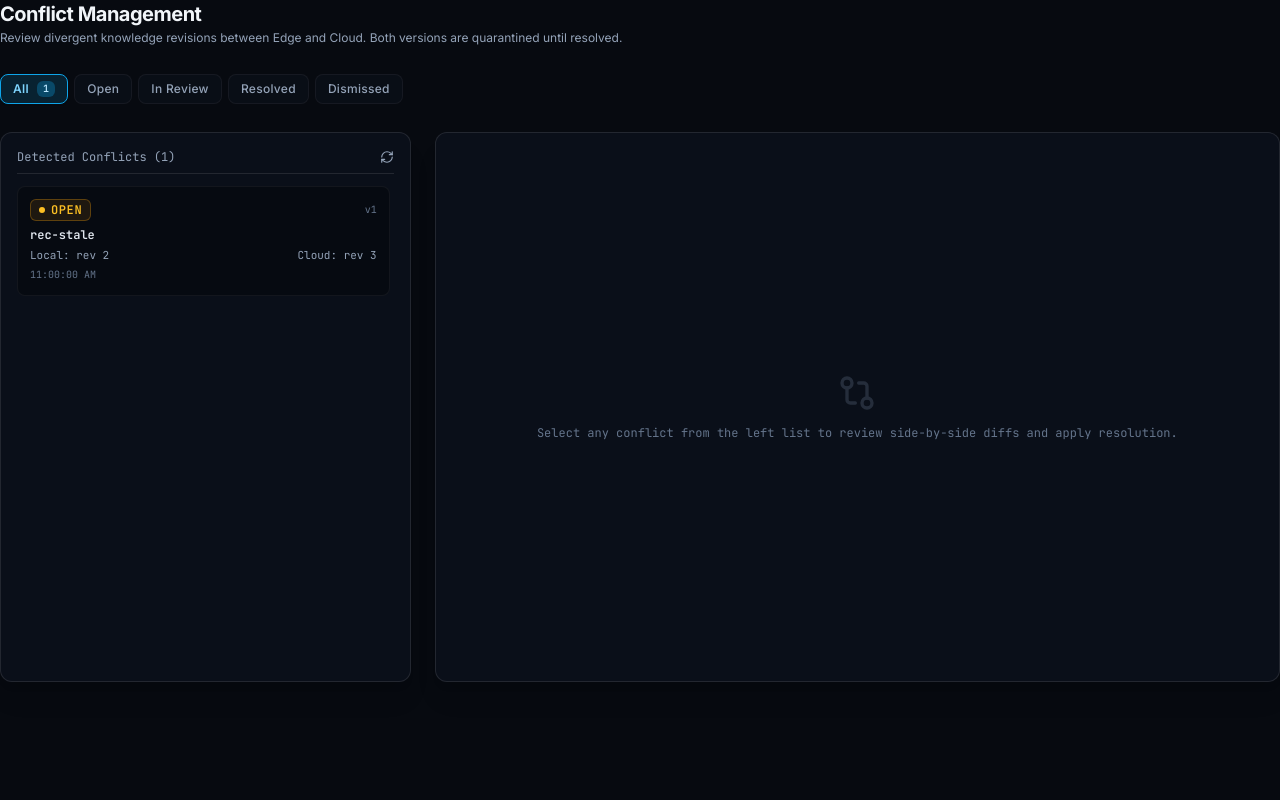
Test: End-to-End Operational Flows Suite › notifies operator when conflict was updated concurrently (HTTP 409)
Click the text "rec-stale".
click(62, 235)  # box [30, 227, 95, 243]
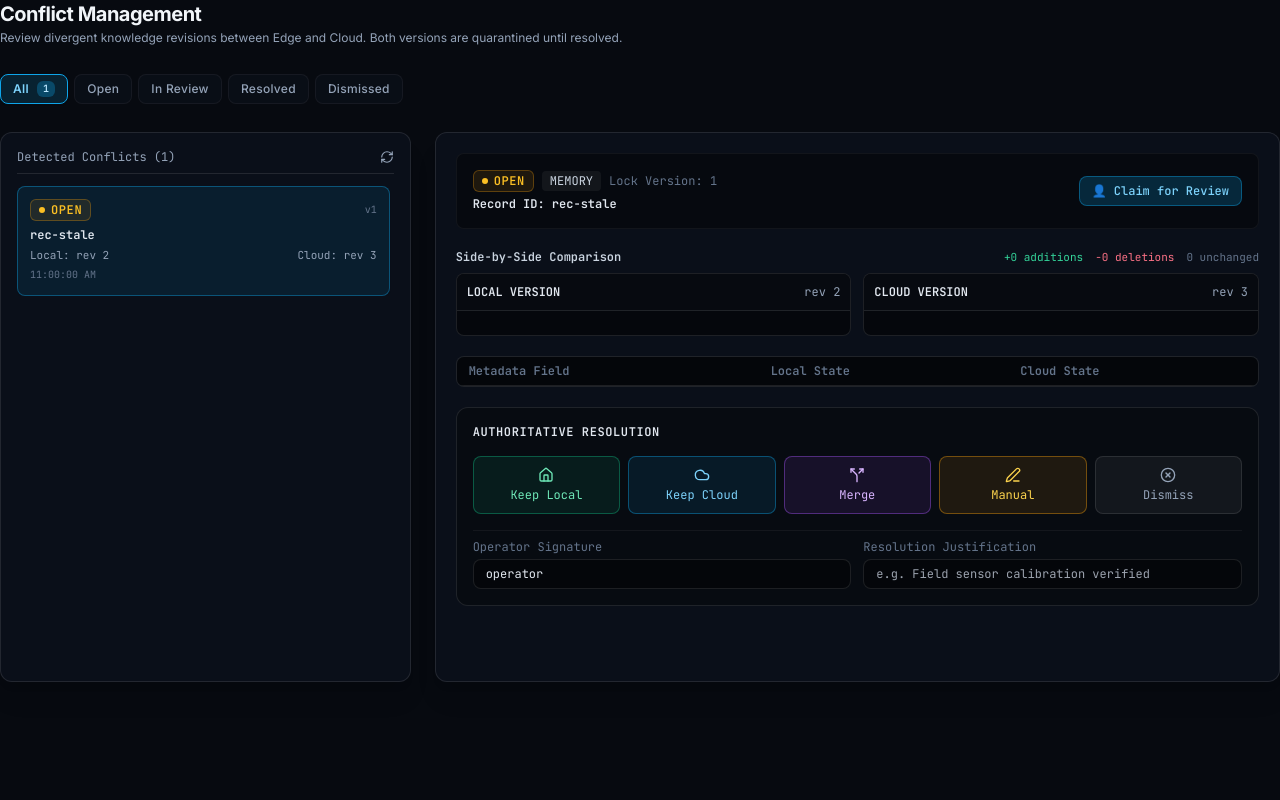
Expected: the text "Keep Cloud" is shown, [666, 487, 738, 503]
Click the button "Keep Cloud".
click(702, 485)  # box [628, 456, 776, 514]
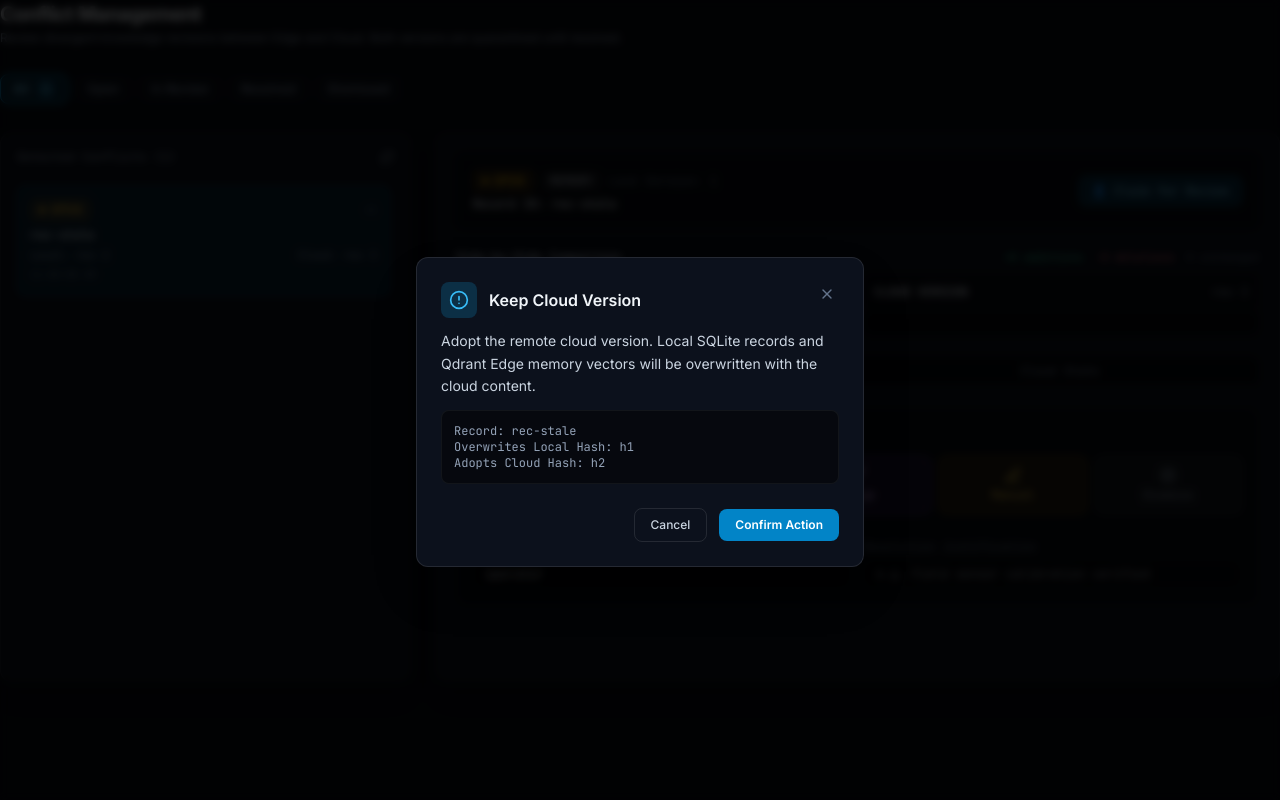
Click the button "Confirm Action".
click(779, 525)  # box [719, 509, 839, 541]
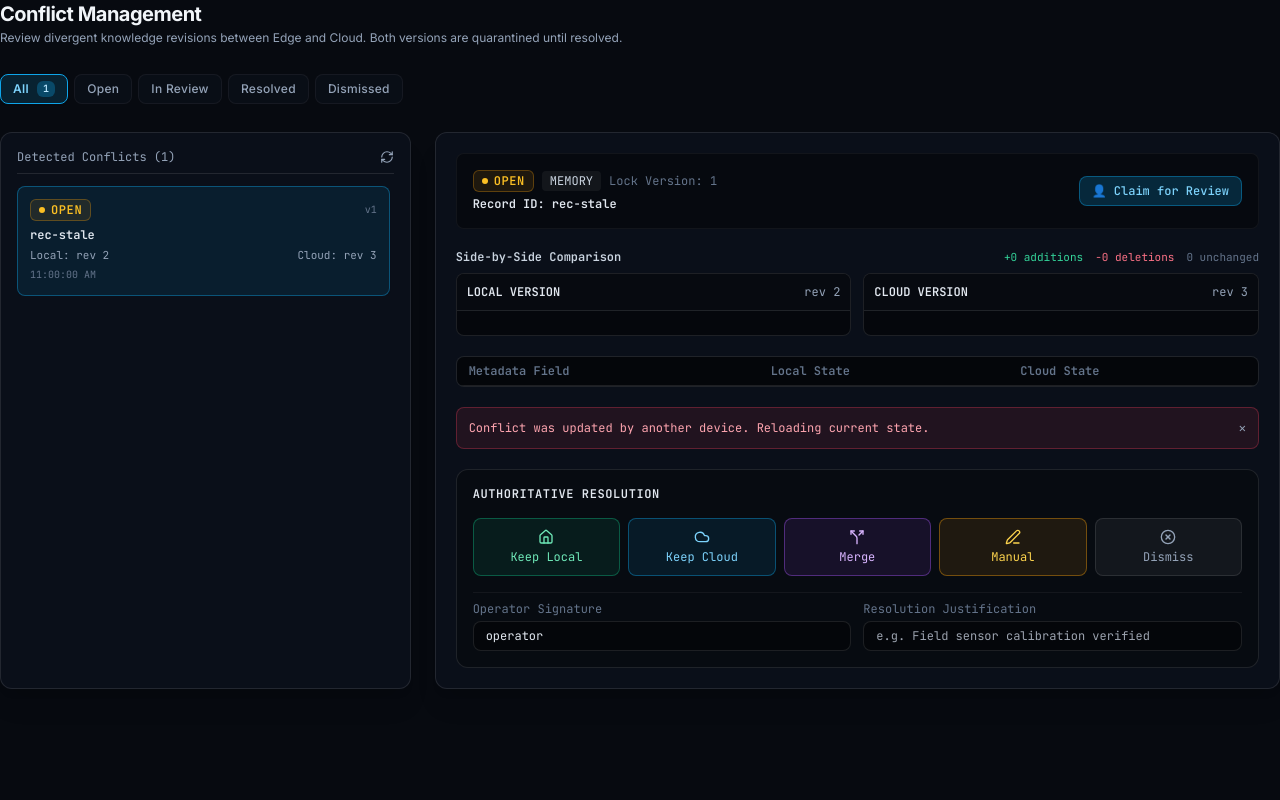
Expected: the text "Conflict was updated by another device. Reloading current state" is shown, [469, 420, 930, 436]
